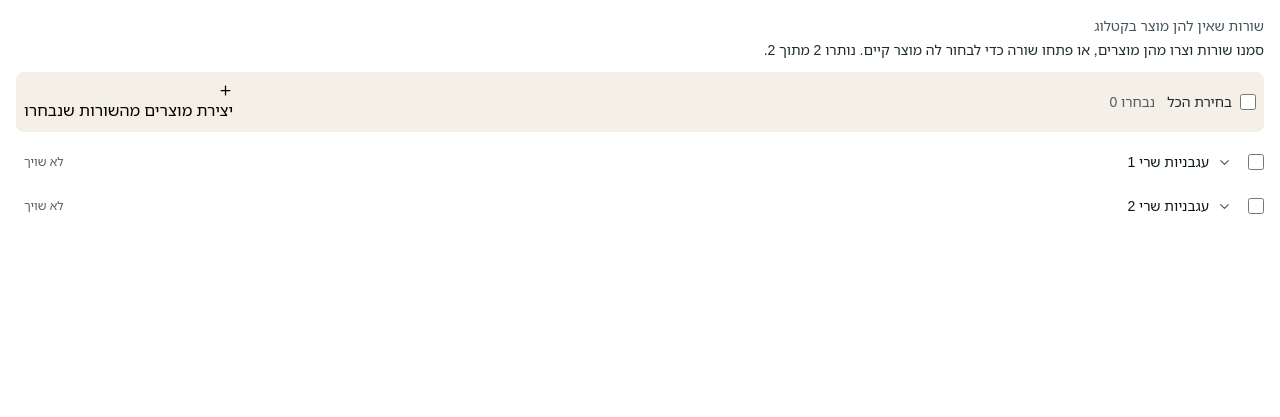
Scenario: the list is a selection, not a wall of controls › lays a line out only when it is opened, and one at a time
Expected: the element with test id "document-line-mapping" is shown, [0, 0, 1279, 244]
Click the button "עגבניות שרי 1 לא שויך": click(1172, 162) [16, 140, 1240, 184]
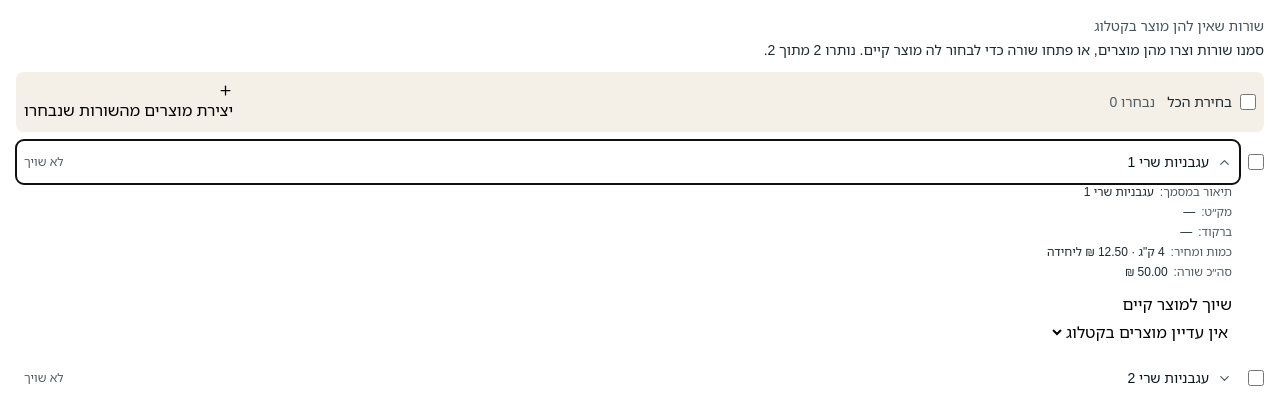
Expected: the button "עגבניות שרי 1 לא שויך" is expanded, [16, 140, 1240, 184]
Expected: the dropdown labelled "שיוך למוצר קיים" is shown, [1050, 320, 1232, 344]
Expected: the text "סה״כ שורה:" is shown, [1174, 264, 1232, 280]
# Opening the second closes the first: two open rows is the wall again, two rows at a time.
Click the button "עגבניות שרי 2 לא שויך": click(1172, 378) [16, 356, 1240, 400]
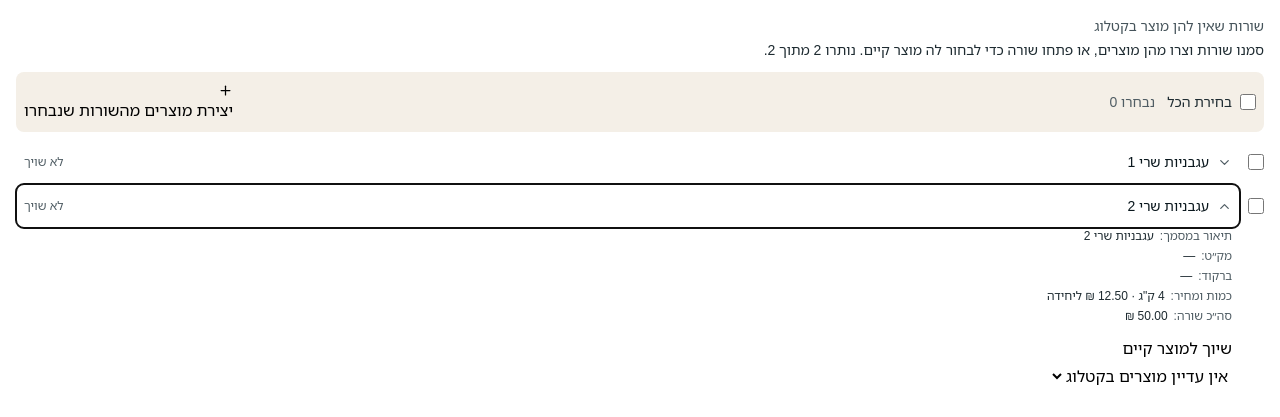
Expected: the number of dropdowns labelled "שיוך למוצר קיים" is 1, [1050, 364, 1232, 388]
Expected: the button "עגבניות שרי 1 לא שויך" is collapsed, [16, 140, 1240, 184]
